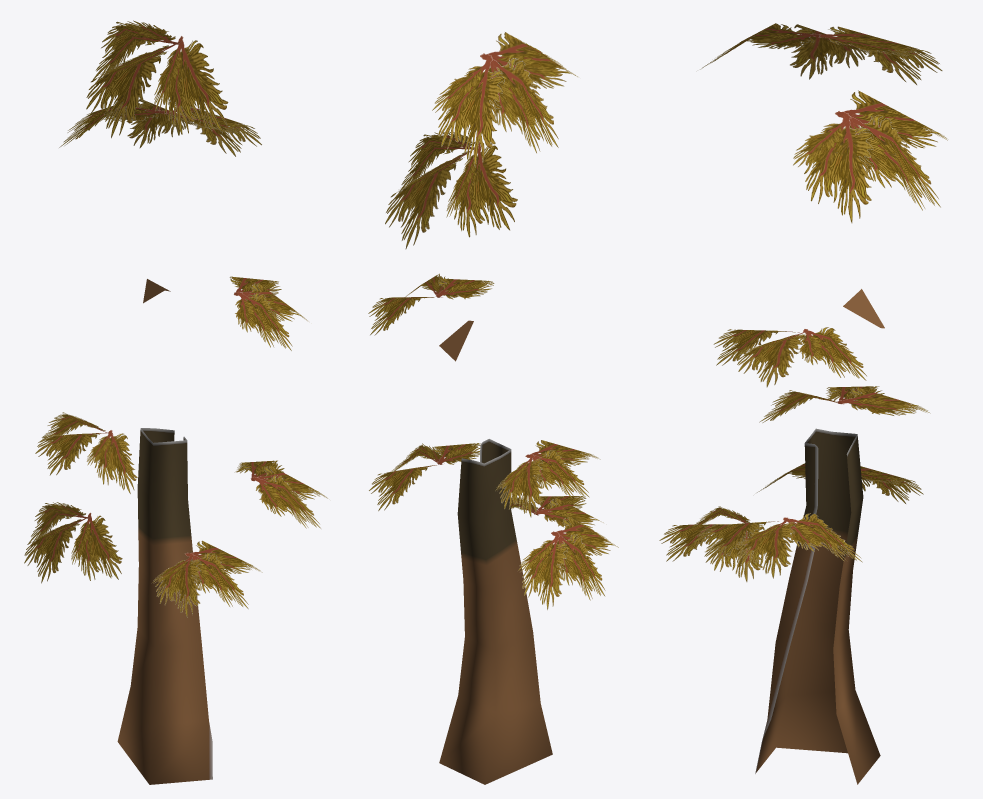
File: Tree_003.fbx
The picture shows the model from 3 angles, left to right: view 1: azimuth 30°, elevation 25°; view 2: azimuth 150°, elevation 25°; view 3: azimuth 270°, elevation 25°; orthographic projection. The views are drawn at different scales.
Visible parts, largest first — view 1: polySurface9, polySurface3; view 2: polySurface9, polySurface3; view 3: polySurface9, polySurface3.
Part boxes in pixels (x1,y1,x2,y2): polySurface9: (24, 20, 327, 617); polySurface3: (117, 428, 212, 784); polySurface9: (368, 32, 618, 610); polySurface3: (439, 439, 552, 784); polySurface9: (659, 23, 948, 582); polySurface3: (755, 428, 880, 784).
Size of the model in its own units: 295 by 823 by 303.
